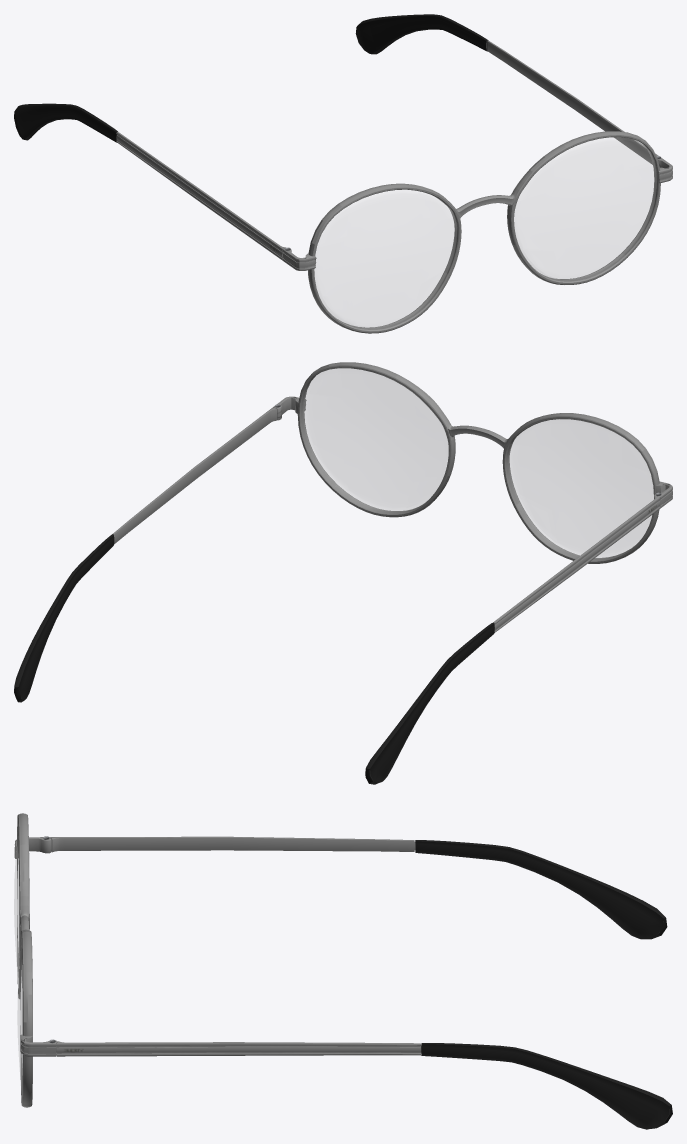
Rendered from Sunglasses(1).gltf.
The picture shows the model from 3 angles, top to bottom: view 1: azimuth 30°, elevation 25°; view 2: azimuth 150°, elevation 25°; view 3: azimuth 270°, elevation 25°; orthographic projection. The views are drawn at different scales.
Parts seen in each view (by area): view 1: Sunglasses(1); view 2: Sunglasses(1); view 3: Sunglasses(1).
Boxes of the visible parts, <box> form: Sunglasses(1): <box>14,14,672,333</box>; Sunglasses(1): <box>14,362,672,784</box>; Sunglasses(1): <box>14,813,672,1129</box>.
Bounding box in the file's own units: 1.36 × 0.4986 × 1.84.
1 material, 1 textured.
